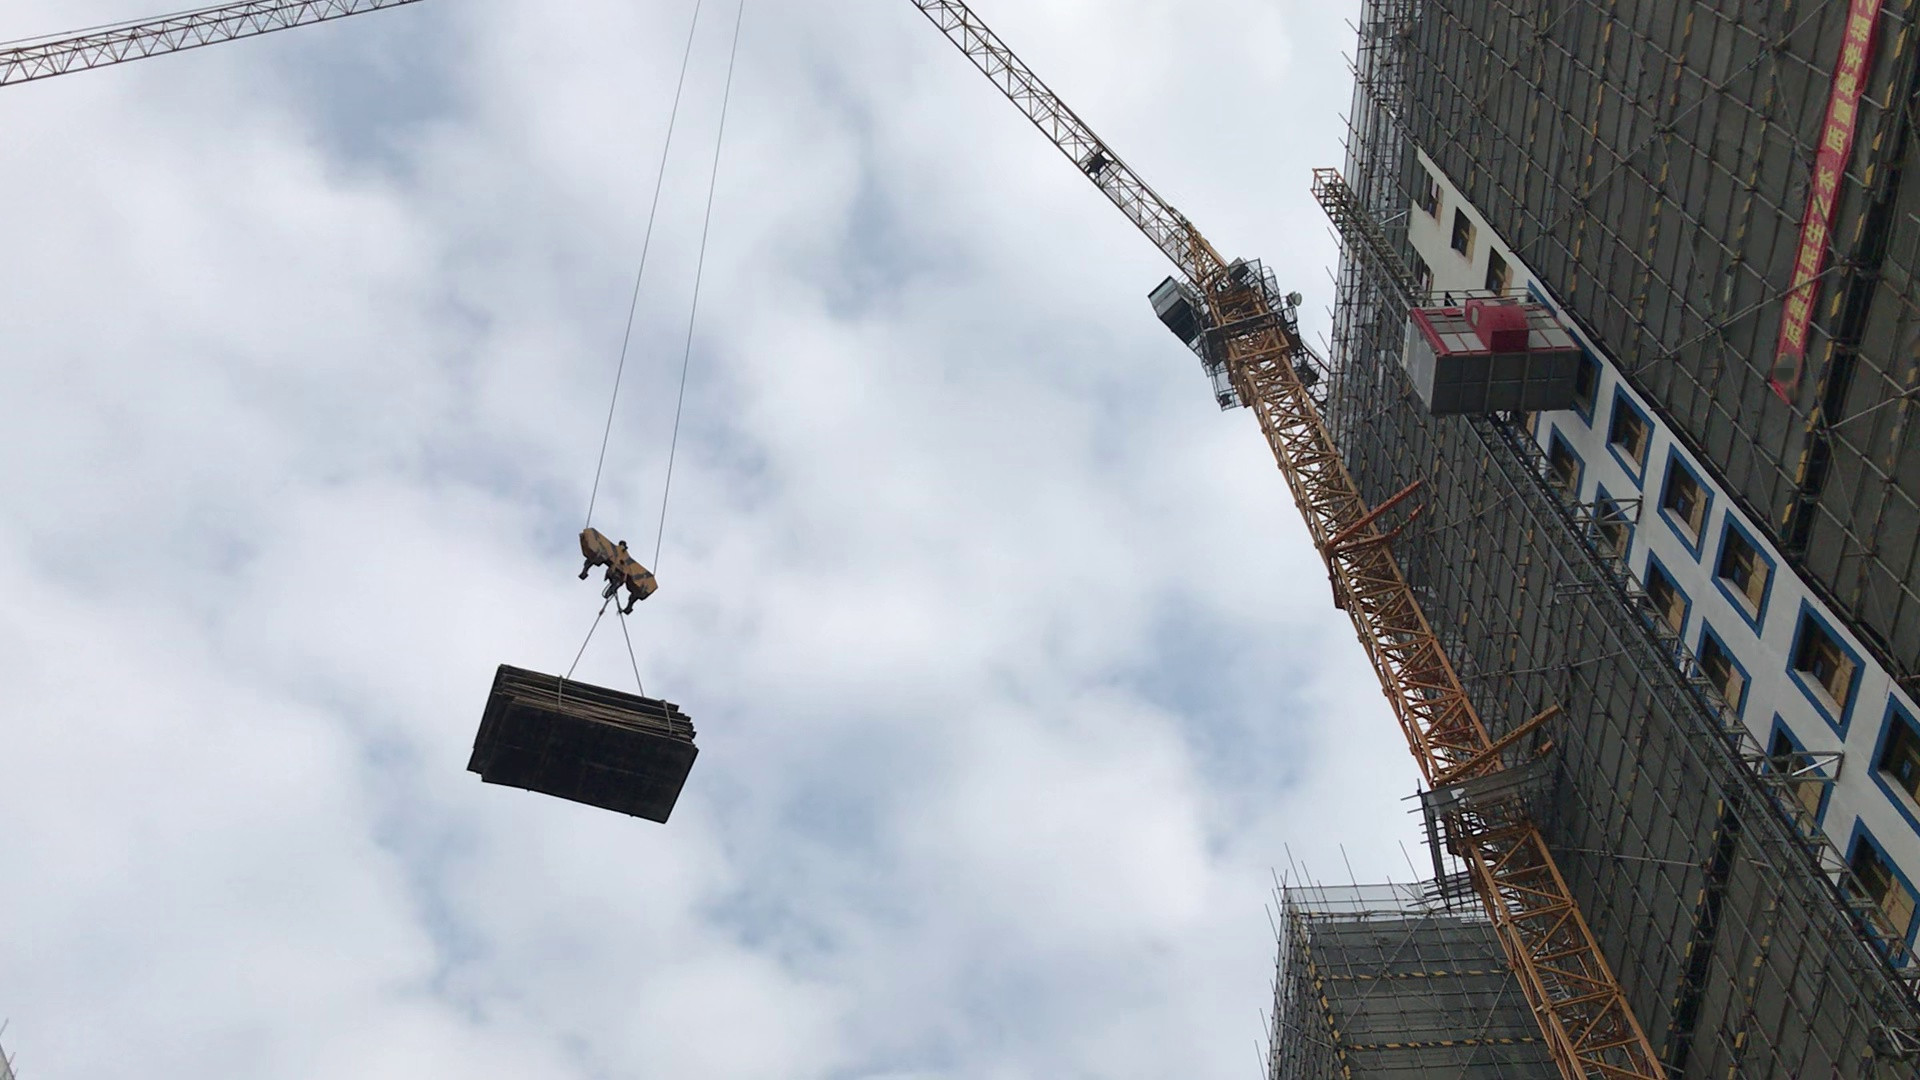board: (458, 657, 723, 825)
hook: (578, 520, 662, 609)
